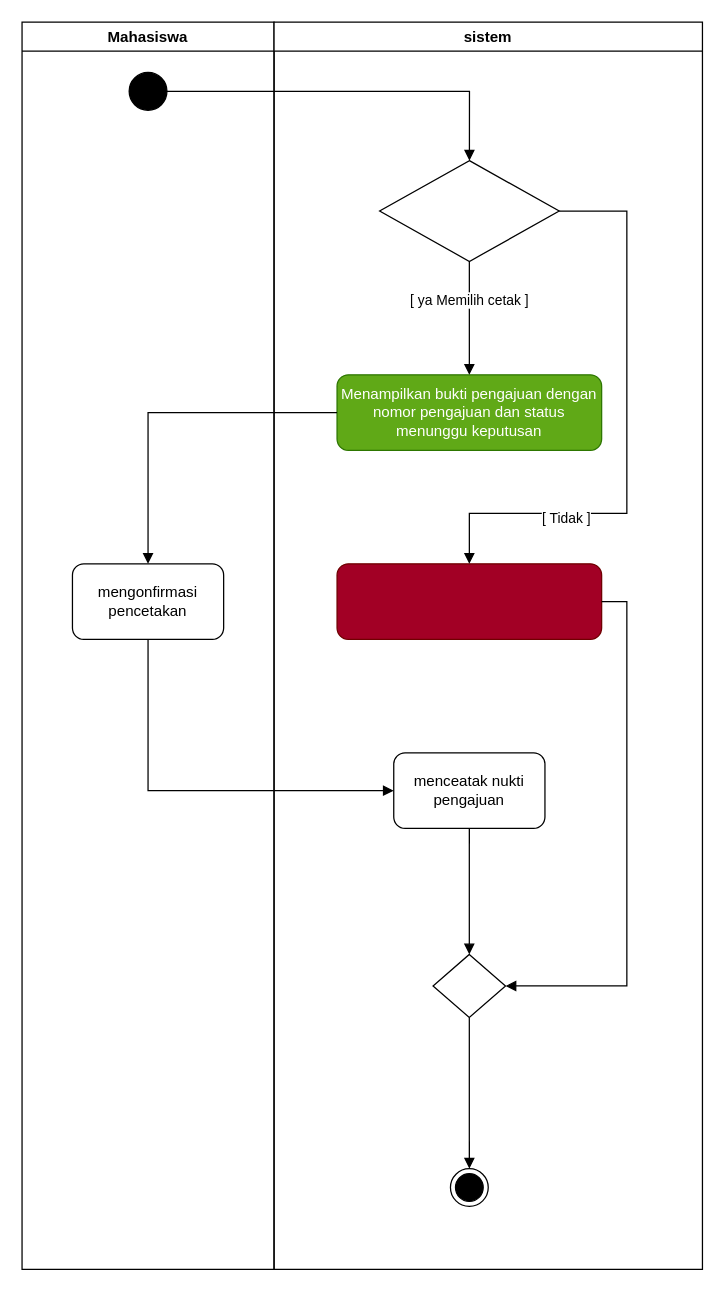
The diagram is 725 pixels wide and 1292 high, and some of its shapes have lost their labels. Each missing label, with the centre of its shape:
"mahasiswa memilih cetak bukti ?" belongs at point (468, 210).
"menutup konfirmasi tanpa mencetak bukti dan pengajuan tetap tersimpan" belongs at point (469, 601).
